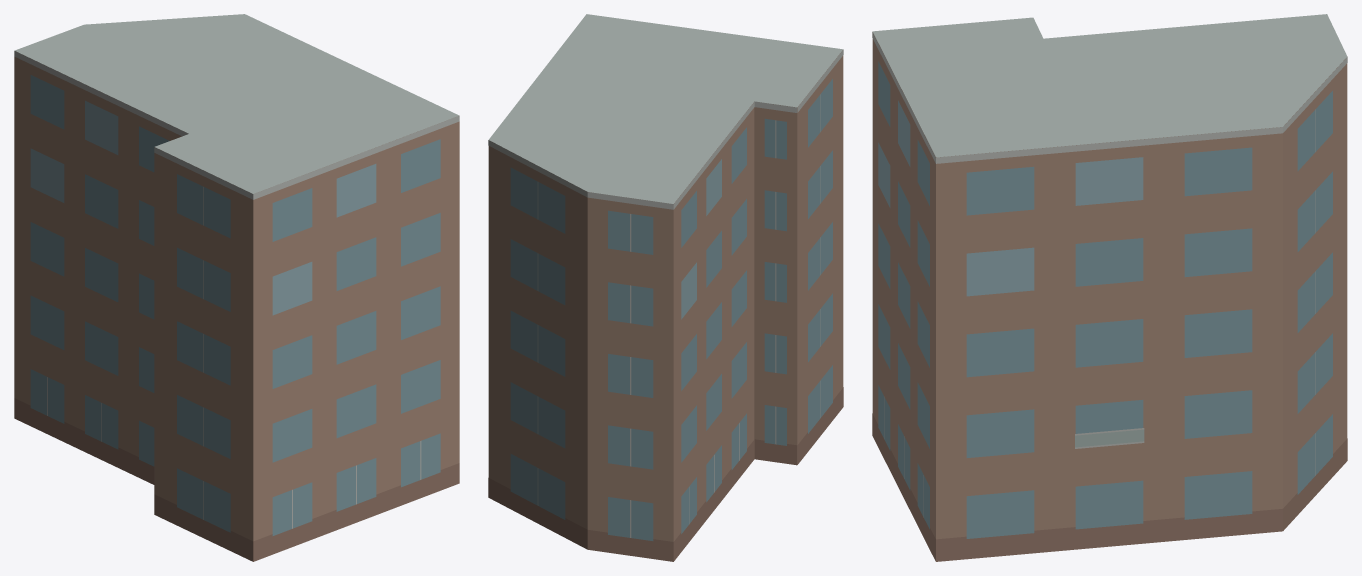
File: survey-upis-32526779.glb
3 renders of one model, left to right at view 1: azimuth 30°, elevation 25°; view 2: azimuth 150°, elevation 25°; view 3: azimuth 270°, elevation 25°, orthographic. The views are drawn at different scales.
Parts seen in each view (by area): view 1: survey-upis-32526779.tmp; view 2: survey-upis-32526779.tmp; view 3: survey-upis-32526779.tmp.
Part boxes in pixels (x1,y1,x2,y2): survey-upis-32526779.tmp: (14,14,459,561); survey-upis-32526779.tmp: (488,14,843,561); survey-upis-32526779.tmp: (872,14,1347,561).
Size of the model in its own units: 11.65 by 15.3 by 16.3.
